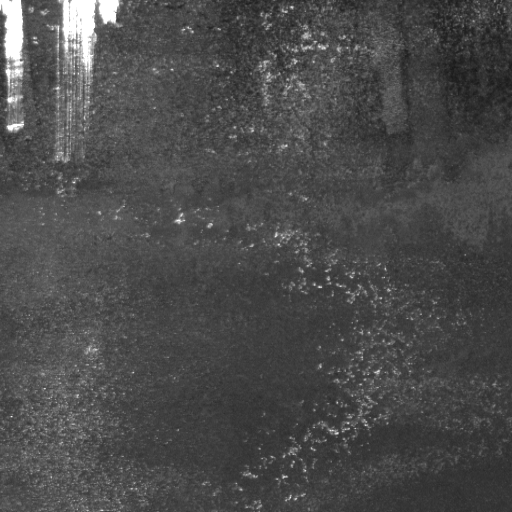zongxianghuashang: (56, 1, 95, 171), (1, 4, 31, 133)
